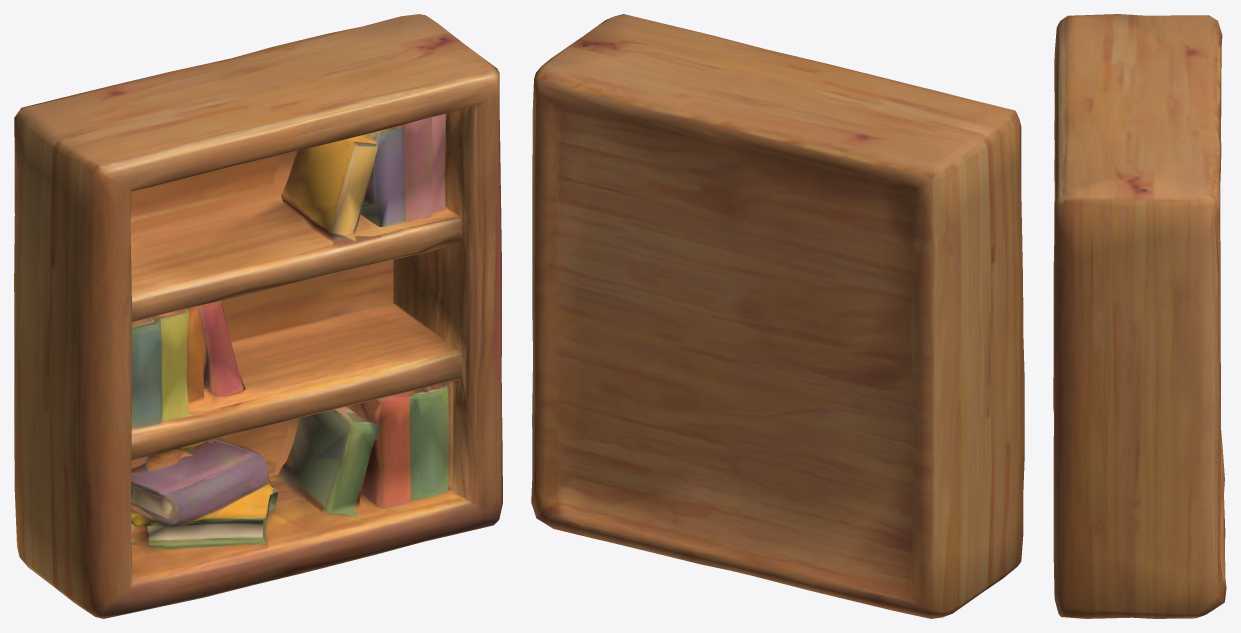
Rendered from book_shelf.glb.
The picture shows the model from 3 angles, left to right: view 1: azimuth 30°, elevation 25°; view 2: azimuth 150°, elevation 25°; view 3: azimuth 270°, elevation 25°; orthographic projection. The views are drawn at different scales.
Size of the model in its own units: 1.94 by 2.01 by 0.7411.
Materials: 1 (1 with a texture image).
